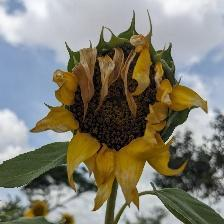sunflower: (29, 8, 210, 211)
